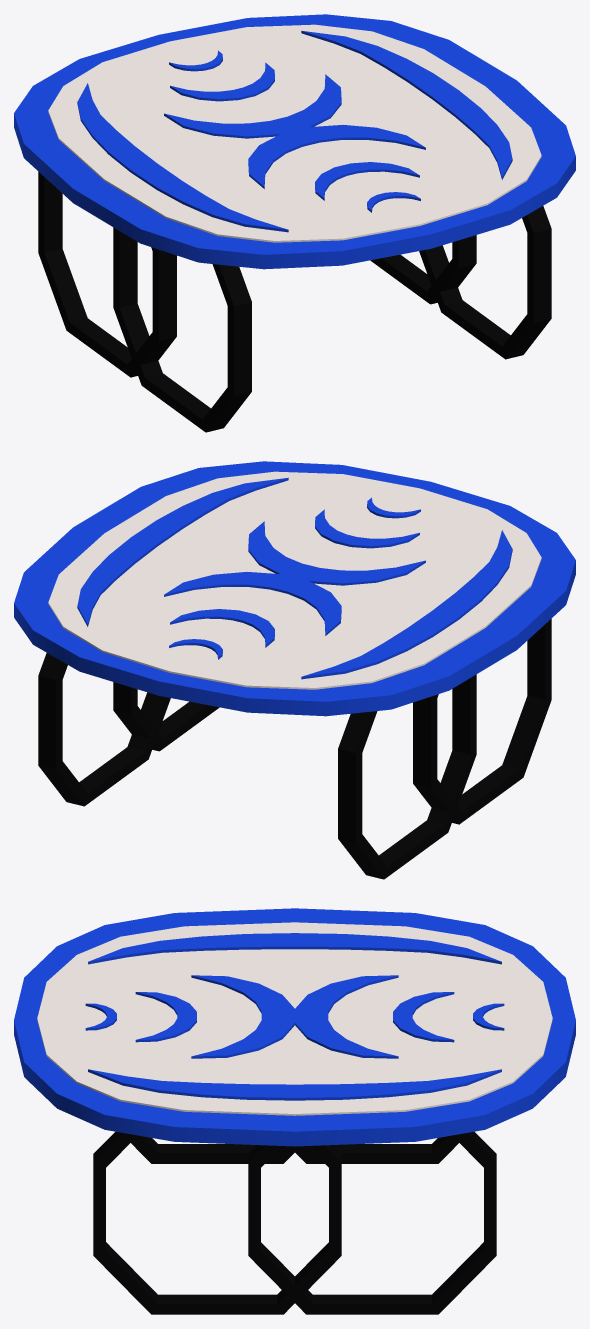
File: ban 1_03.FBX
The picture shows the model from 3 angles, top to bottom: view 1: azimuth 30°, elevation 25°; view 2: azimuth 150°, elevation 25°; view 3: azimuth 270°, elevation 25°; orthographic projection. The views are drawn at different scales.
Parts seen in each view (by area): view 1: Object1278; view 2: Object1278; view 3: Object1278.
Part boxes in pixels (x1,y1,x2,y2): Object1278: (14, 14, 575, 432); Object1278: (14, 461, 575, 879); Object1278: (14, 908, 575, 1314).
Bounding box in the file's own units: 3.05 × 1.4 × 3.24.
